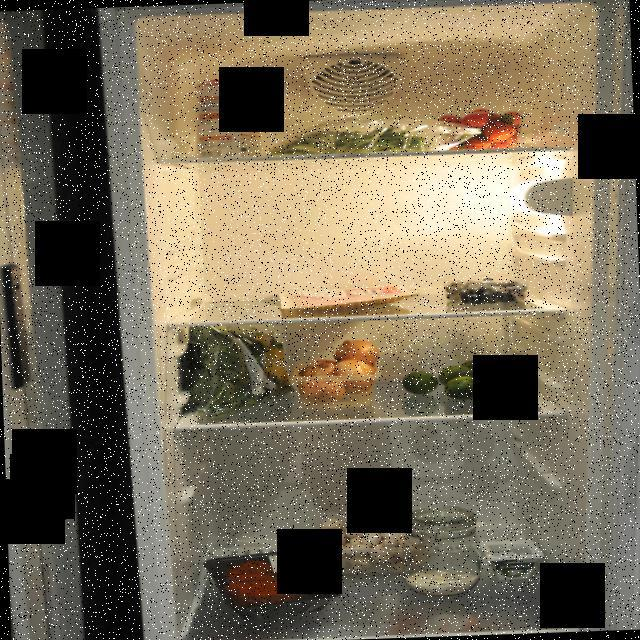Carne cerdo: (276, 283, 420, 310)
Carne vacuno: (201, 548, 344, 622)
Cebolla: (290, 338, 384, 408)
Champiñones: (304, 512, 414, 570)
